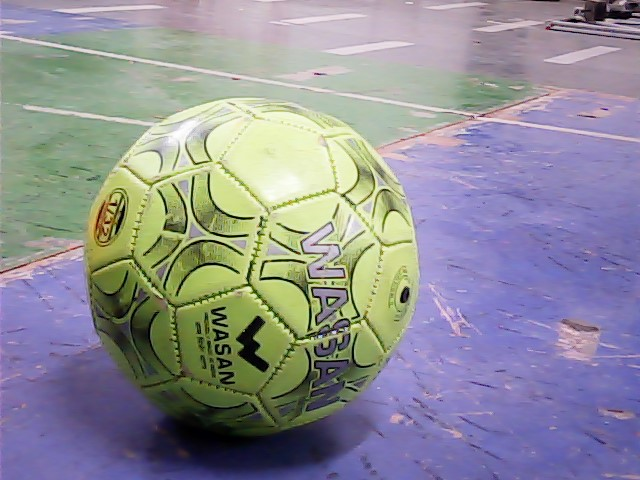Green_ball: (79, 93, 431, 441)
